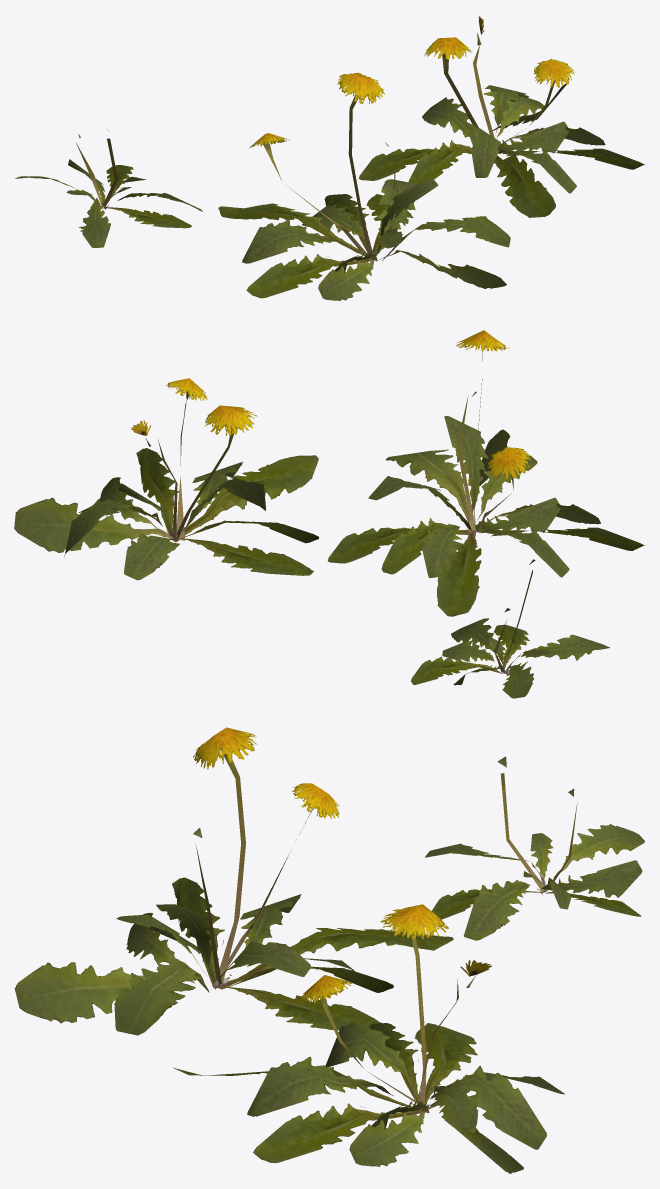
The model's file is cicek_lod2.glb.
3 views of the same model, one above another, from view 1: azimuth 30°, elevation 25°; view 2: azimuth 150°, elevation 25°; view 3: azimuth 270°, elevation 25° (orthographic). The views are drawn at different scales.
Visible parts, largest first — view 1: cicek_lod2; view 2: cicek_lod2; view 3: cicek_lod2.
Part boxes in pixels (box(x1,y1,x2,y2)): cicek_lod2: box(15, 16, 645, 300); cicek_lod2: box(14, 330, 644, 698); cicek_lod2: box(14, 727, 644, 1173).
Bounding box in the file's own units: 1.07 × 0.3866 × 0.8591.
1 material, 1 textured.
